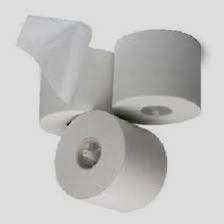tissue: (48, 104, 176, 218), (12, 9, 122, 141), (106, 24, 206, 131)
